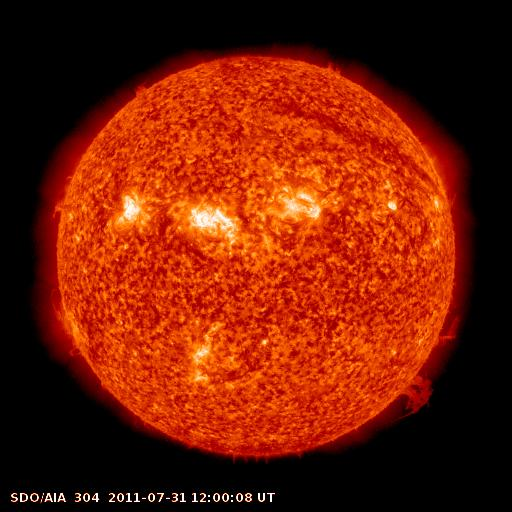prominence: (39, 283, 84, 338), (394, 368, 436, 425), (429, 297, 467, 353), (46, 171, 77, 222), (123, 73, 159, 106)
